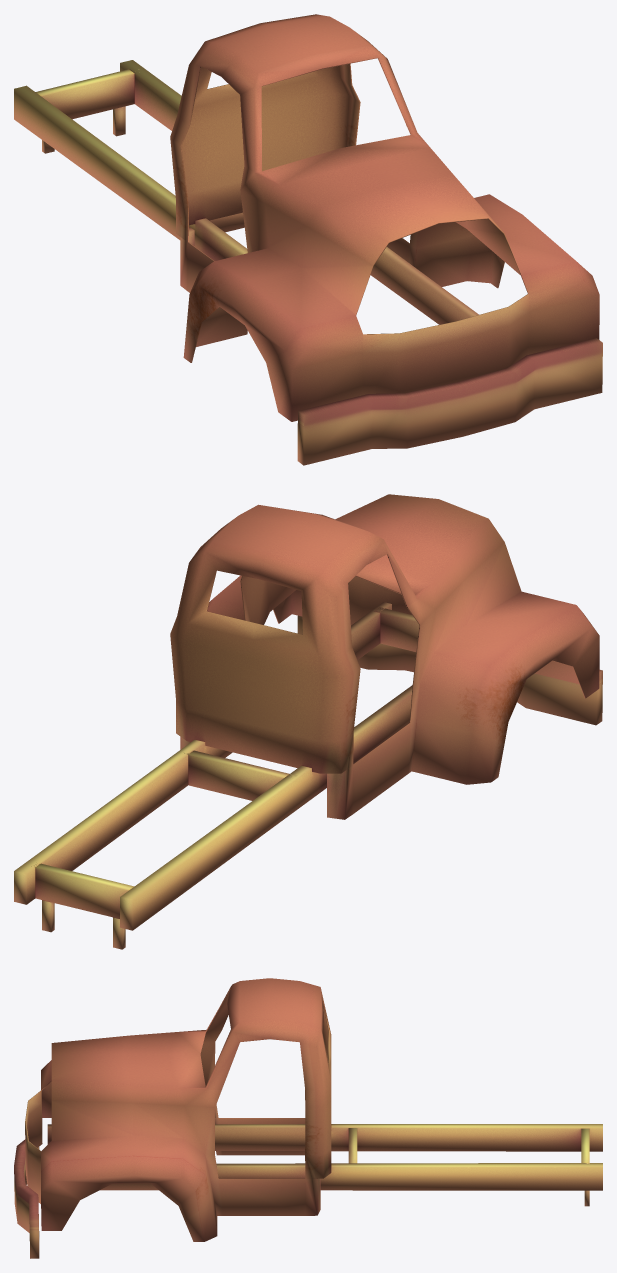
File: Trucks.glb
3 renders of one model, top to bottom at view 1: azimuth 30°, elevation 25°; view 2: azimuth 150°, elevation 25°; view 3: azimuth 270°, elevation 25°, orthographic. The views are drawn at different scales.
Visible parts, largest first — view 1: Truck1; view 2: Truck1; view 3: Truck1.
Boxes of the visible parts, x1,y1,x2,y2 form: Truck1: [14, 14, 602, 465]; Truck1: [14, 494, 602, 949]; Truck1: [14, 978, 602, 1258].
Bounding box in the file's own units: 2.88 × 2.47 × 6.33.
Materials: 1 (1 with a texture image).
